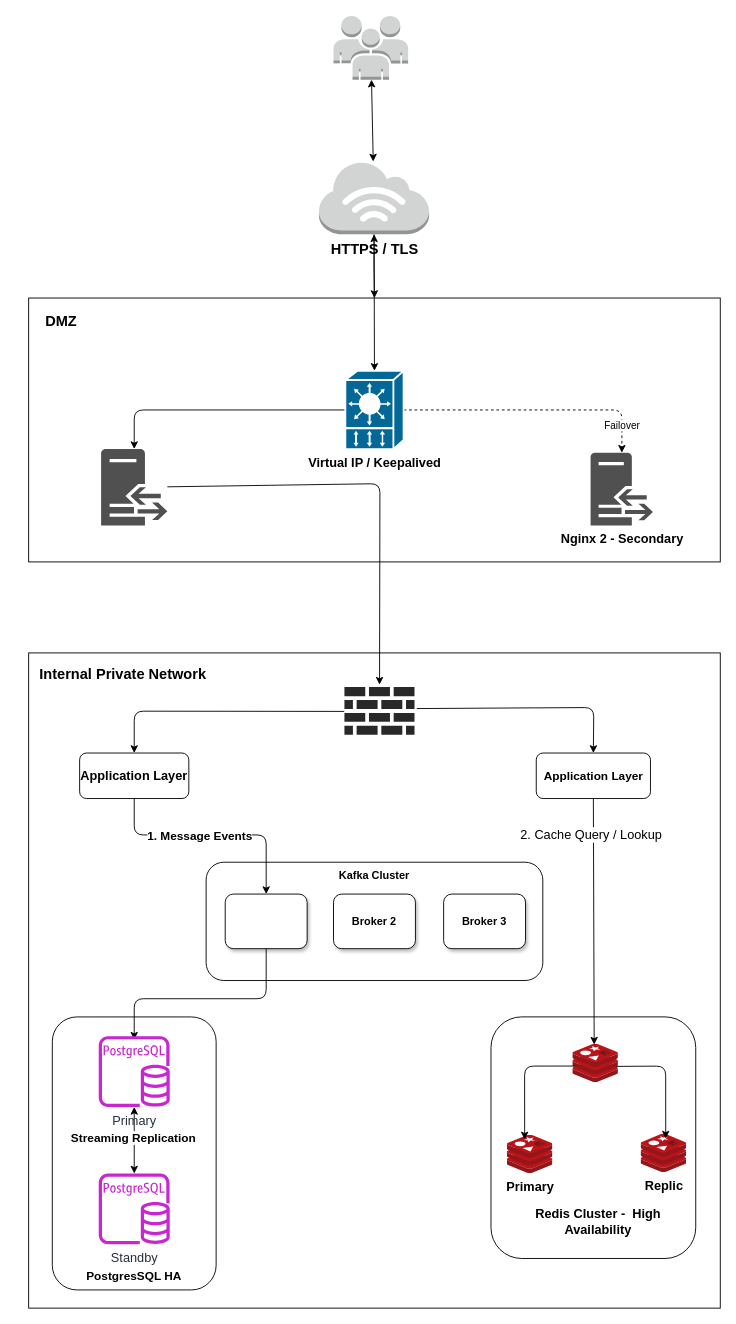
Image size: 736x1324. Some labels were removed from this diagram. The centre of each missing label's shape, as x and y in pixels:
"Broker 1" goes at [267,922].
"Firewall / ACLs" goes at [379,710].
"Nginx 1 - Primary" goes at [134,487].
"Redis Sentinel" goes at [595,1063].
"Users" goes at [370,47].
